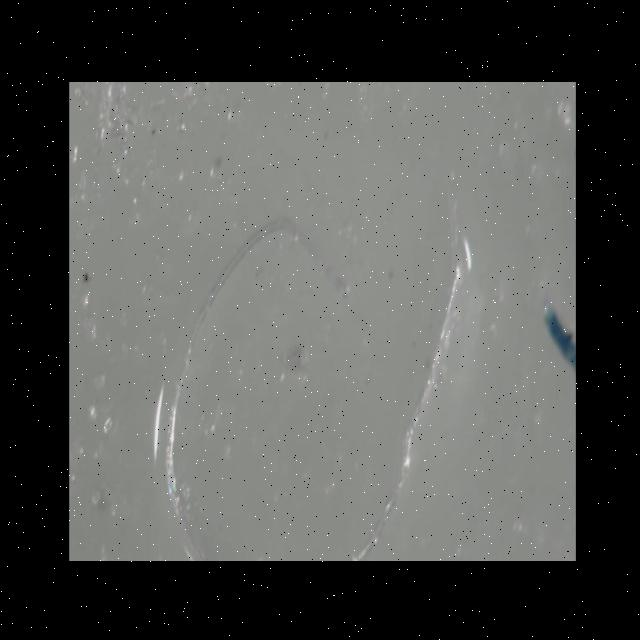Fibre: (150, 150, 478, 560)
